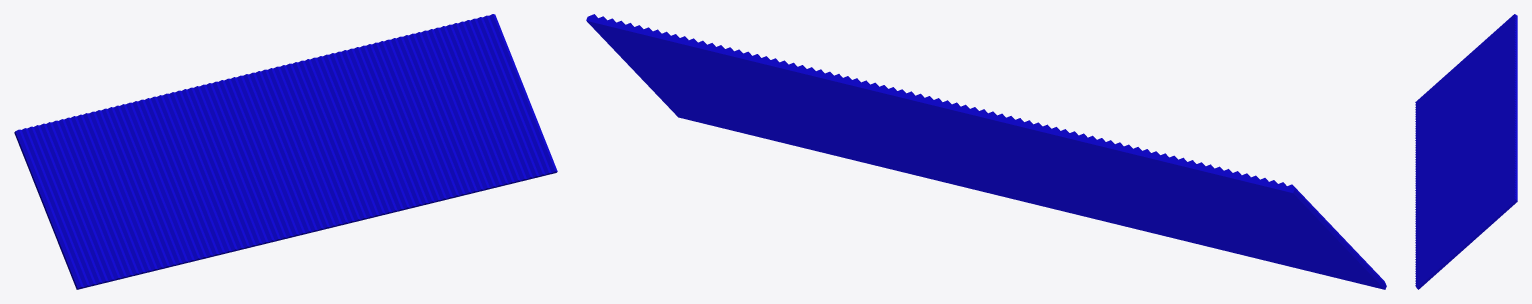
Rendered from GolfPlaat.Dak-SantasWorkshopMainBuilding.glb.
3 views of the same model, side by side, from view 1: azimuth 30°, elevation 25°; view 2: azimuth 150°, elevation 25°; view 3: azimuth 270°, elevation 25° (orthographic). The views are drawn at different scales.
Parts seen in each view (by area): view 1: GolfPlaat.Dak-SantasWorkshopMainBuilding.001; view 2: GolfPlaat.Dak-SantasWorkshopMainBuilding.001; view 3: GolfPlaat.Dak-SantasWorkshopMainBuilding.001.
Boxes of the visible parts, <box> form: GolfPlaat.Dak-SantasWorkshopMainBuilding.001: <box>14,14,557,289</box>; GolfPlaat.Dak-SantasWorkshopMainBuilding.001: <box>586,14,1386,289</box>; GolfPlaat.Dak-SantasWorkshopMainBuilding.001: <box>1415,14,1517,289</box>.
Bounding box in the file's own units: 20.55 × 4.72 × 4.8.
